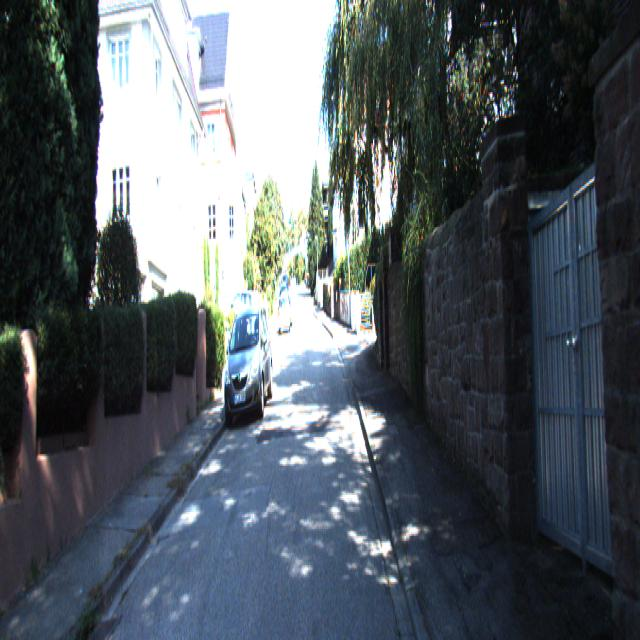Car: (222, 309, 274, 425), (278, 291, 291, 332)
